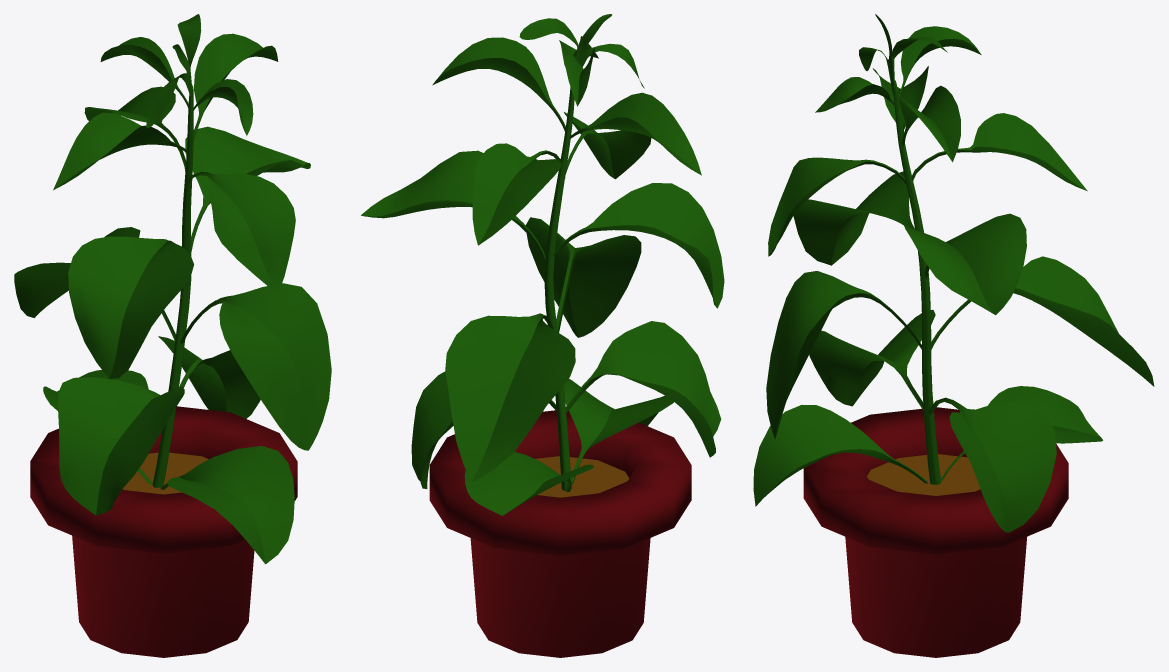
Rendered from T_Plant_A.fbx.
The picture shows the model from 3 angles, left to right: view 1: azimuth 30°, elevation 25°; view 2: azimuth 150°, elevation 25°; view 3: azimuth 270°, elevation 25°; orthographic projection.
Parts seen in each view (by area): view 1: T_Plant_A; view 2: T_Plant_A; view 3: T_Plant_A.
Part boxes in pixels (left/top/right/bottom): T_Plant_A: left=14, top=14, right=331, bottom=657; T_Plant_A: left=361, top=14, right=724, bottom=657; T_Plant_A: left=753, top=14, right=1154, bottom=657.
Size of the model in its own units: 9.98 by 18.94 by 11.5.
